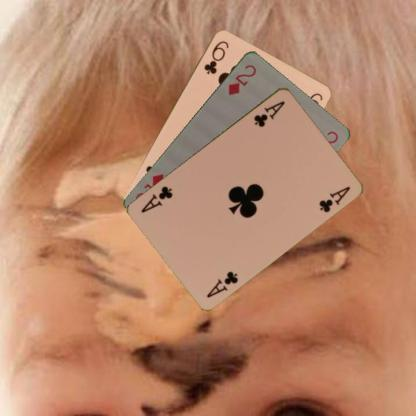2d: (225, 61, 258, 96)
6c: (201, 38, 230, 75)
Ac: (204, 268, 240, 299), (250, 98, 286, 128)
